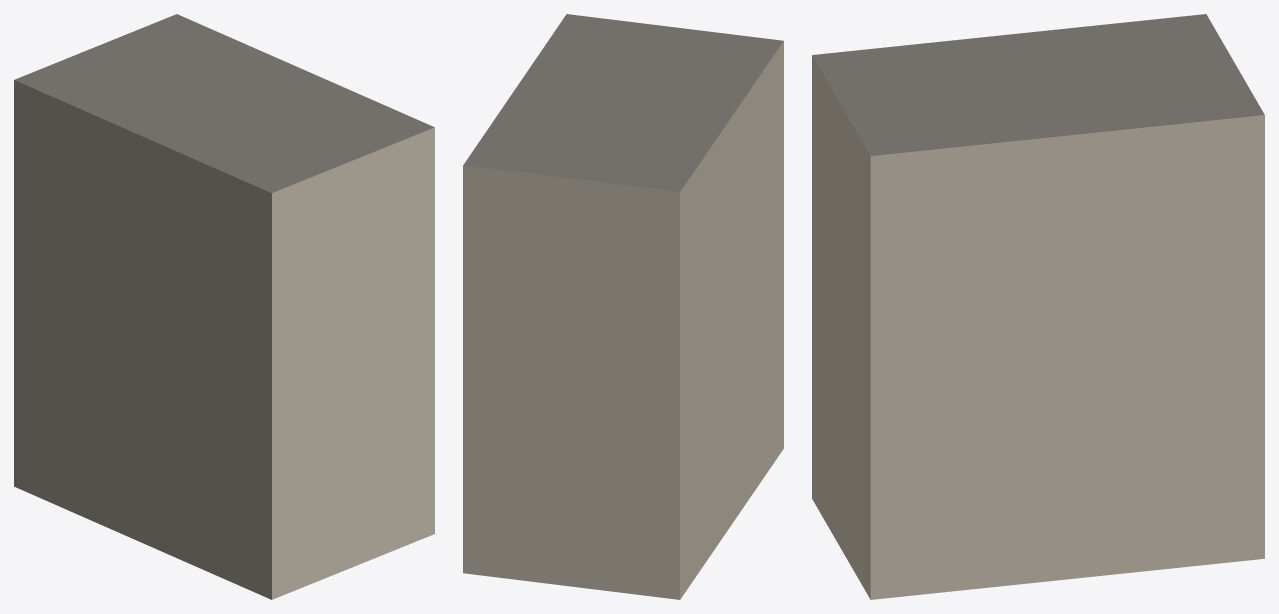
3 renders of one model, left to right at view 1: azimuth 30°, elevation 25°; view 2: azimuth 150°, elevation 25°; view 3: azimuth 270°, elevation 25°, orthographic. The views are drawn at different scales.
Visible parts, largest first — view 1: HP-w446936776; view 2: HP-w446936776; view 3: HP-w446936776.
Part boxes in pixels (x1,y1,x2,y2): HP-w446936776: (14,14,434,599); HP-w446936776: (463,14,783,599); HP-w446936776: (812,14,1264,599).
Size of the model in its own units: 12.37 by 18 by 16.64.
